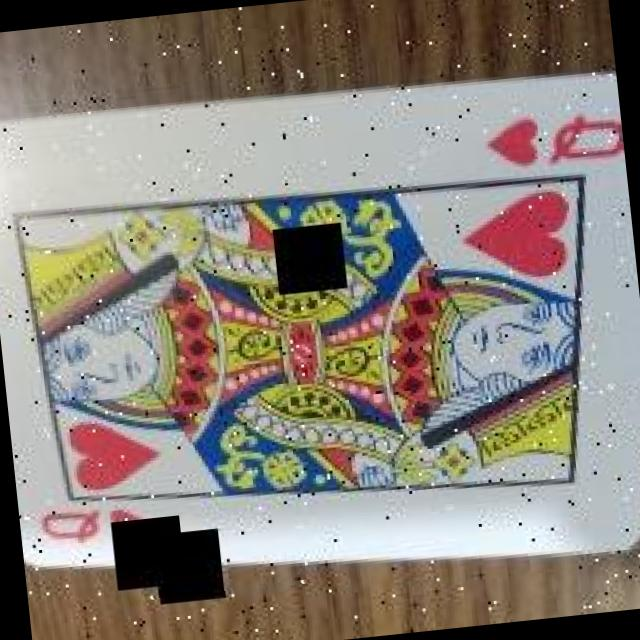Queen of hearts: (0, 75, 640, 566)
